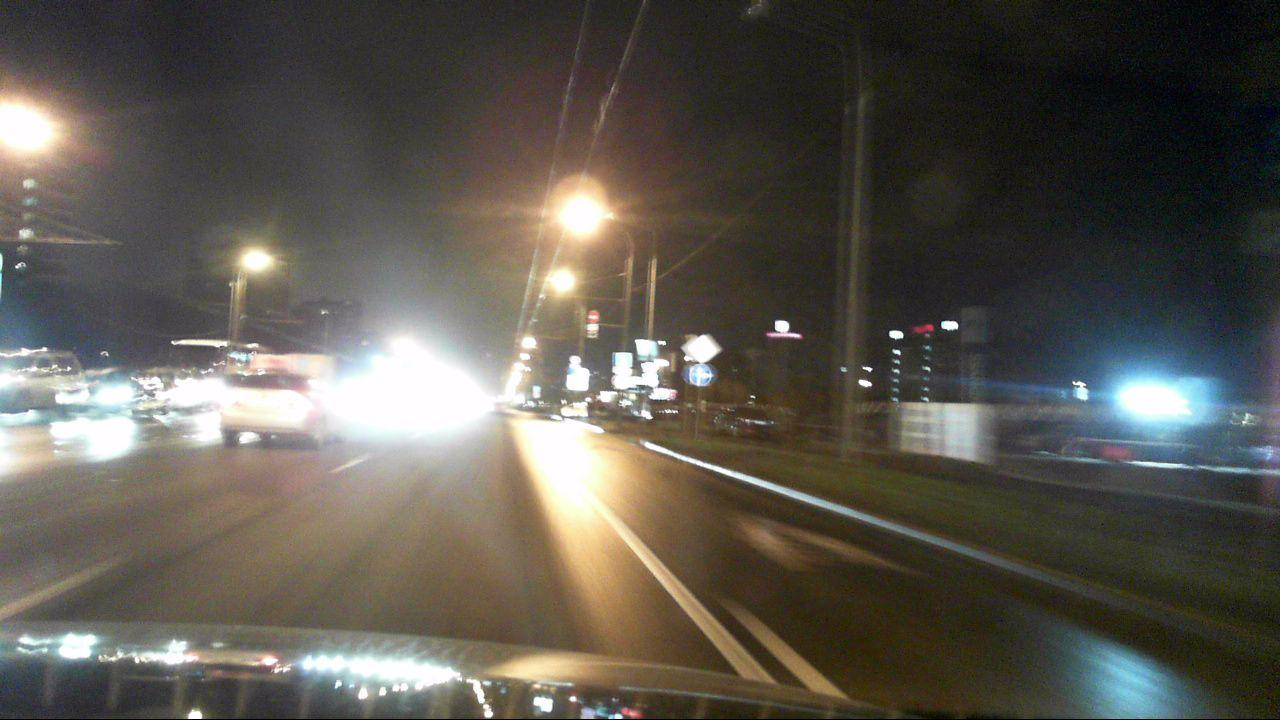2_1: (686, 331, 723, 363)
4_1_4: (689, 364, 712, 386)
